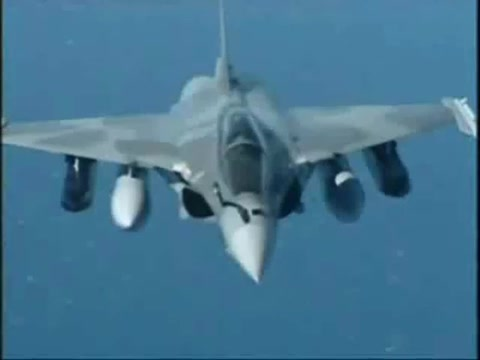aeroplane: (3, 2, 479, 286)
